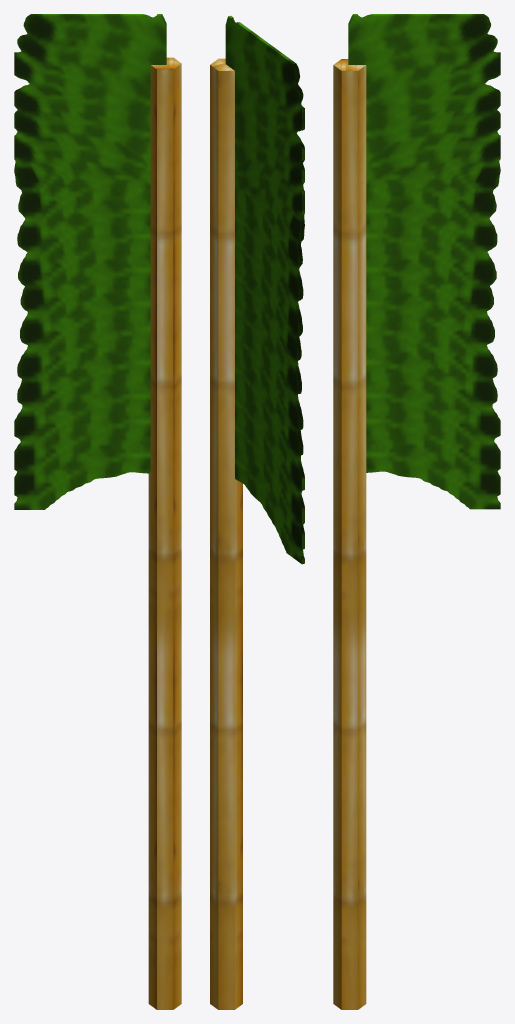
File: viet_ship_prop.dae
3 views of the same model, side by side, from view 1: azimuth 90°, elevation 25°; view 2: azimuth 210°, elevation 25°; view 3: azimuth 270°, elevation 25° (orthographic).
Visible parts, largest first — view 1: viet_ship_prop; view 2: viet_ship_prop; view 3: viet_ship_prop.
Part boxes in pixels (left/top/right/bottom): viet_ship_prop: left=14, top=14, right=181, bottom=1009; viet_ship_prop: left=210, top=16, right=304, bottom=1009; viet_ship_prop: left=333, top=14, right=500, bottom=1009.
Bounding box in the file's own units: 0.1676 × 0.9806 × 6.4.
